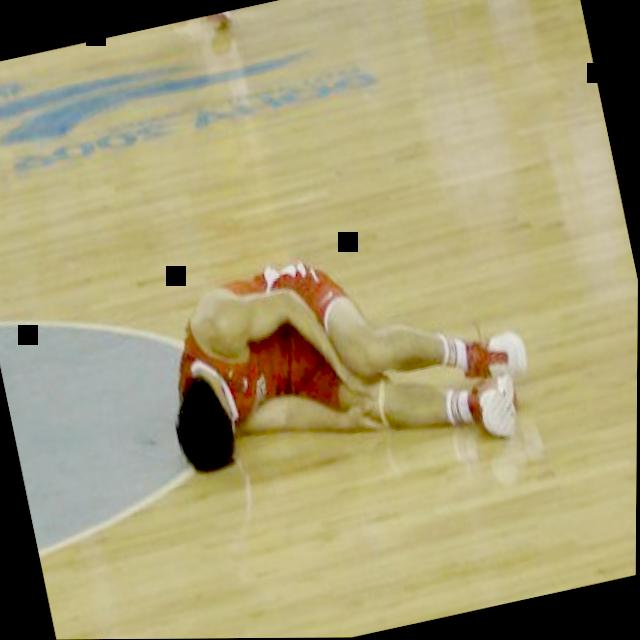Fall-Detected: (142, 186, 546, 504)
